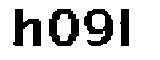0: (48, 6, 81, 49)
9: (83, 8, 117, 48)
h: (9, 4, 46, 52)
l: (117, 6, 137, 49)
